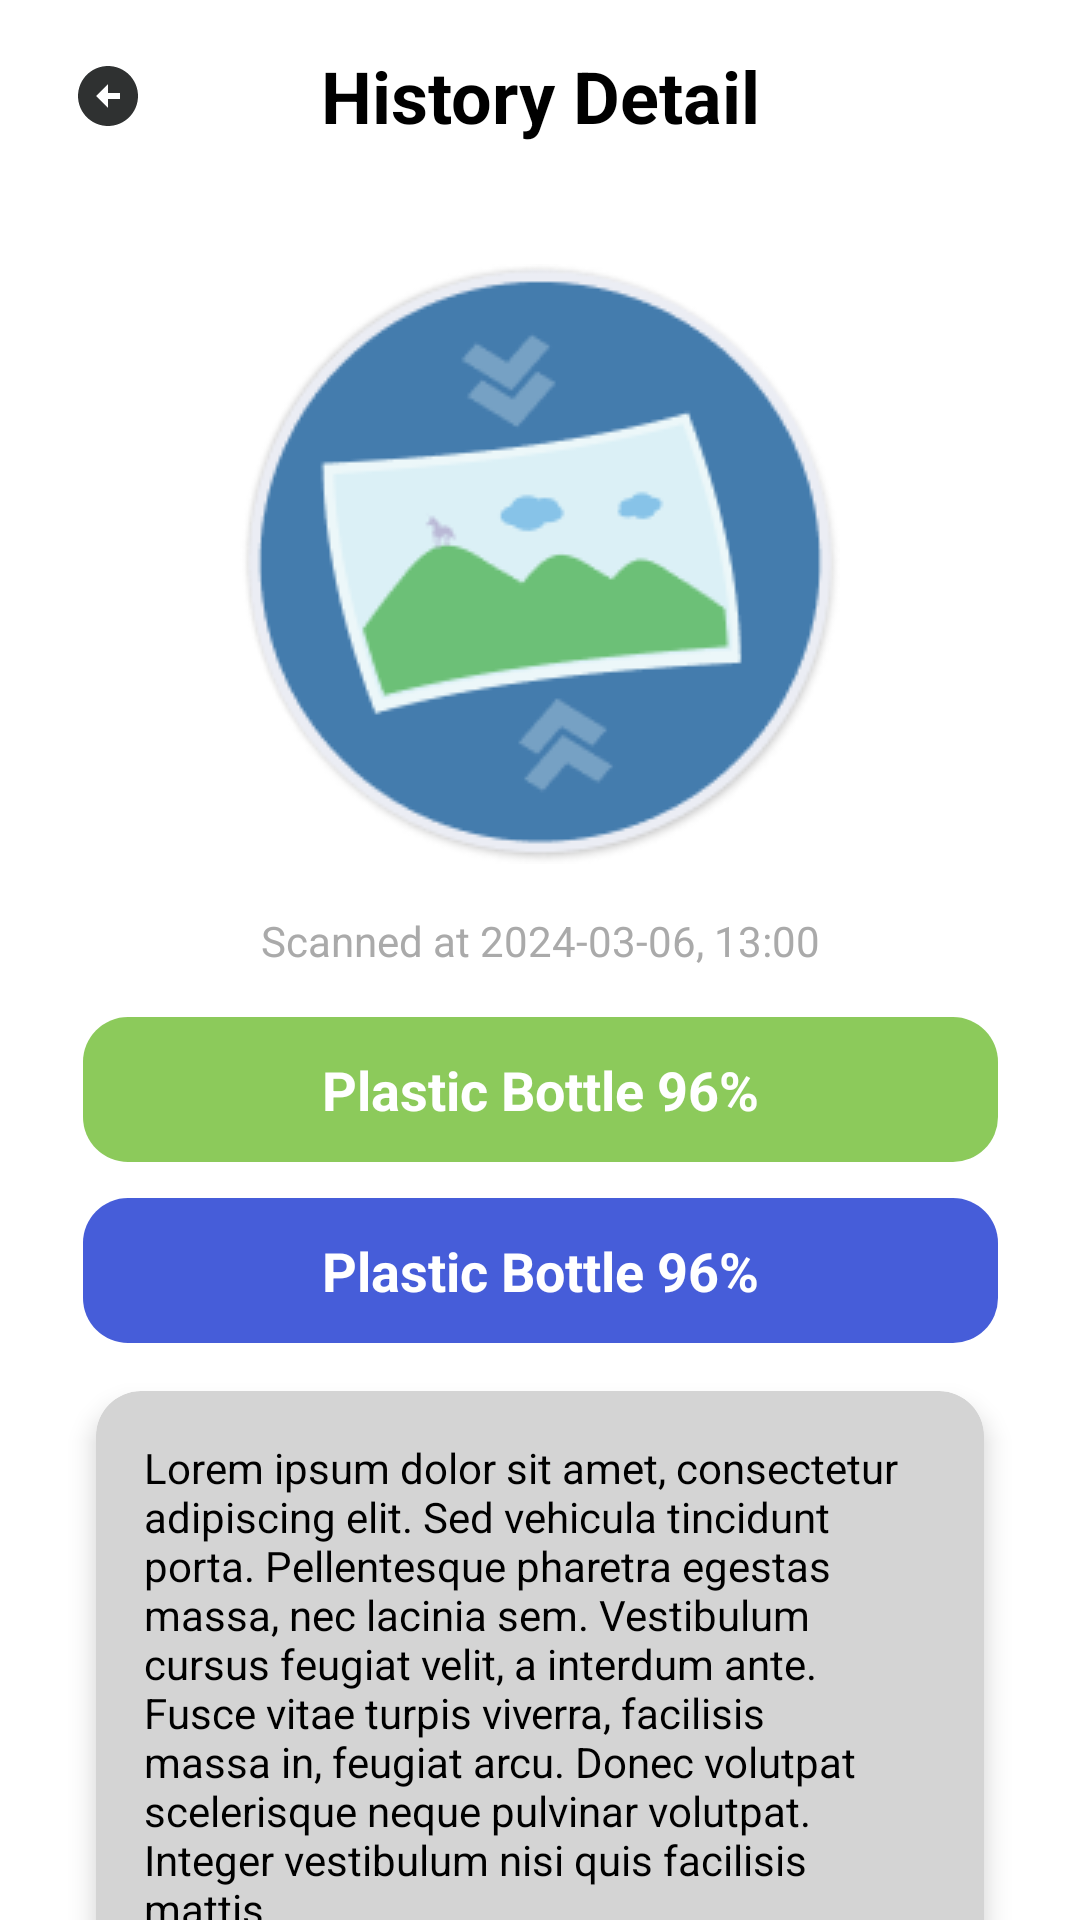

Named icons in this screenshot (1080×1920) and their bounding boxes, (x1, y1, x2, y2):
back arrow: (78, 66, 138, 126)
